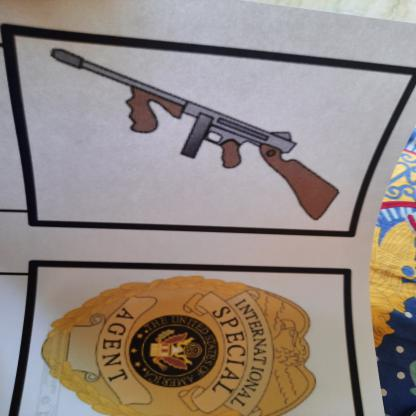Bootlegger: (33, 40, 354, 229)
G-man: (35, 272, 327, 416)
